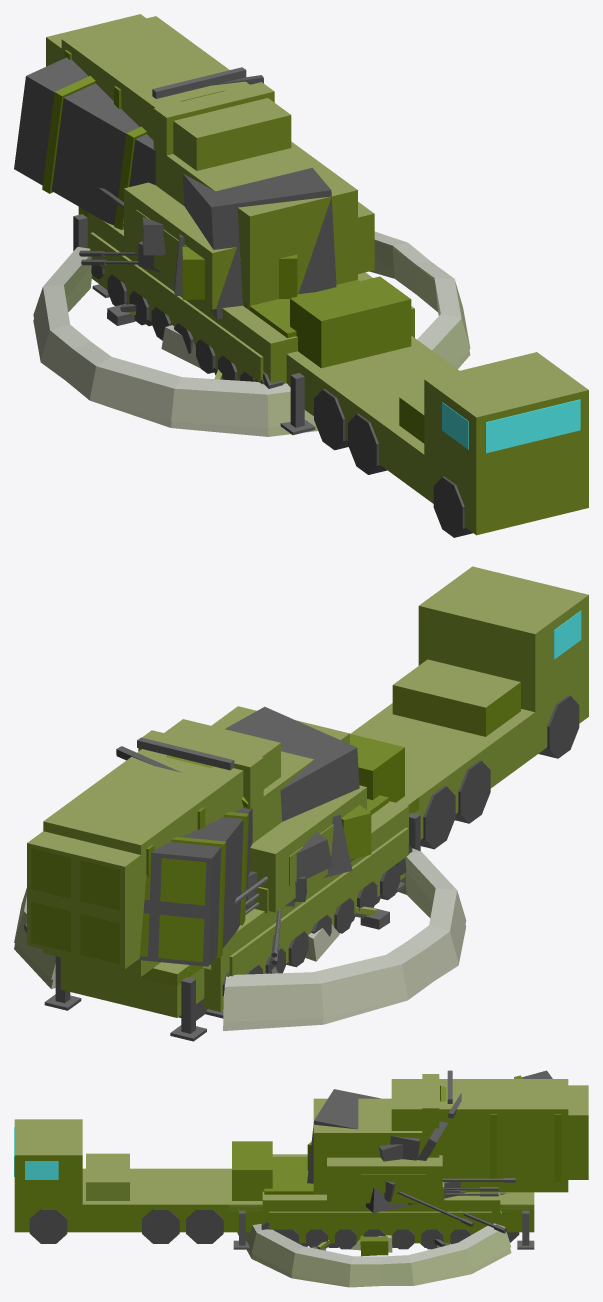
The model's file is aaa.glb.
3 renders of one model, top to bottom at view 1: azimuth 30°, elevation 25°; view 2: azimuth 150°, elevation 25°; view 3: azimuth 270°, elevation 25°, orthographic. The views are drawn at different scales.
Visible parts, largest first — view 1: aaa_113_lod1_s1v0, aaa_113_lod0_s1v0, aaa_111_lod0_s1v0, aaa_113_lod0_s1v1, aaa_114_lod0_s1v0_part1, aaa_115_lod1_s1v0, aaa_115_lod0_s1v0, aaa_114_lod0_s1v1, aaa_111_lod0_s1v1, aaa_114_lod1_s1v0, aaa_113_lod0_s1v0_part2, aaa_115_lod0_s1v1 (+3 smaller); view 2: aaa_113_lod1_s1v0, aaa_113_lod0_s1v0, aaa_113_lod0_s1v0_part2, aaa_113_lod0_s1v1, aaa_111_lod0_s1v1, aaa_115_lod1_s1v0, aaa_115_lod0_s1v0, aaa_114_lod0_s1v1, aaa_111_lod0_s1v0, aaa_114_lod1_s1v0, aaa_115_lod0_s1v1, aaa_114_lod0_s1v0_part1 (+3 smaller); view 3: aaa_113_lod1_s1v0, aaa_113_lod0_s1v0, aaa_113_lod0_s1v0_part2, aaa_115_lod1_s1v0, aaa_115_lod0_s1v0, aaa_114_lod1_s1v0, aaa_111_lod0_s1v0, aaa_111_lod0_s1v1, aaa_114_lod0_s1v1, aaa_114_lod0_s1v0_part1, aaa_115_lod0_s1v0_part2, aaa_110_lod0_s1v1 (+3 smaller).
Boxes of the visible parts, box(x1,y1,x2,y2) form: aaa_113_lod1_s1v0: box(61, 16, 588, 535); aaa_113_lod0_s1v0: box(73, 207, 580, 537); aaa_111_lod0_s1v0: box(33, 248, 470, 427); aaa_113_lod0_s1v1: box(14, 57, 155, 229); aaa_114_lod0_s1v0_part1: box(152, 67, 357, 310); aaa_115_lod1_s1v0: box(88, 182, 414, 382); aaa_115_lod0_s1v0: box(90, 232, 359, 388); aaa_114_lod0_s1v1: box(182, 75, 336, 319); aaa_111_lod0_s1v1: box(33, 231, 470, 436); aaa_114_lod1_s1v0: box(153, 82, 349, 216); aaa_113_lod0_s1v0_part2: box(46, 14, 291, 169); aaa_115_lod0_s1v1: box(142, 217, 297, 299); aaa_113_lod1_s1v0: box(43, 566, 588, 1017); aaa_113_lod0_s1v0: box(44, 570, 581, 1041); aaa_113_lod0_s1v0_part2: box(27, 787, 235, 969); aaa_113_lod0_s1v1: box(138, 808, 252, 966); aaa_111_lod0_s1v1: box(14, 871, 465, 1021); aaa_115_lod1_s1v0: box(203, 785, 408, 1011); aaa_115_lod0_s1v0: box(203, 795, 412, 996); aaa_114_lod0_s1v1: box(116, 706, 359, 861); aaa_111_lod0_s1v0: box(14, 848, 466, 1030); aaa_114_lod1_s1v0: box(138, 706, 349, 843); aaa_115_lod0_s1v1: box(248, 805, 371, 906); aaa_114_lod0_s1v0_part1: box(137, 718, 349, 834); aaa_113_lod1_s1v0: box(14, 1079, 568, 1232); aaa_113_lod0_s1v0: box(14, 1120, 534, 1249); aaa_113_lod0_s1v0_part2: box(391, 1085, 588, 1182); aaa_115_lod1_s1v0: box(262, 1154, 500, 1243); aaa_115_lod0_s1v0: box(261, 1157, 501, 1249); aaa_114_lod1_s1v0: box(313, 1074, 439, 1194); aaa_111_lod0_s1v0: box(245, 1223, 511, 1285); aaa_111_lod0_s1v1: box(237, 1210, 510, 1287); aaa_114_lod0_s1v1: box(307, 1089, 461, 1183); aaa_114_lod0_s1v0_part1: box(313, 1070, 452, 1194); aaa_115_lod0_s1v0_part2: box(361, 1174, 515, 1192); aaa_110_lod0_s1v1: box(365, 1182, 506, 1212).
Bounding box in the file's own units: 136 × 78.85 × 277.
